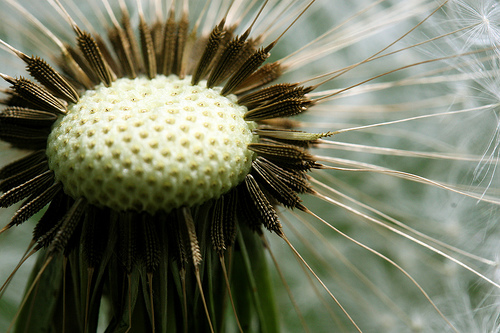dandelion: (3, 1, 497, 333)
